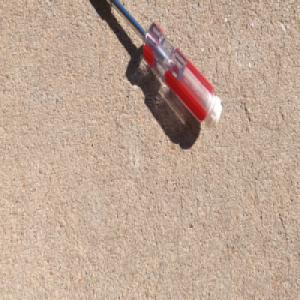Screwdriver: (103, 0, 224, 131)
